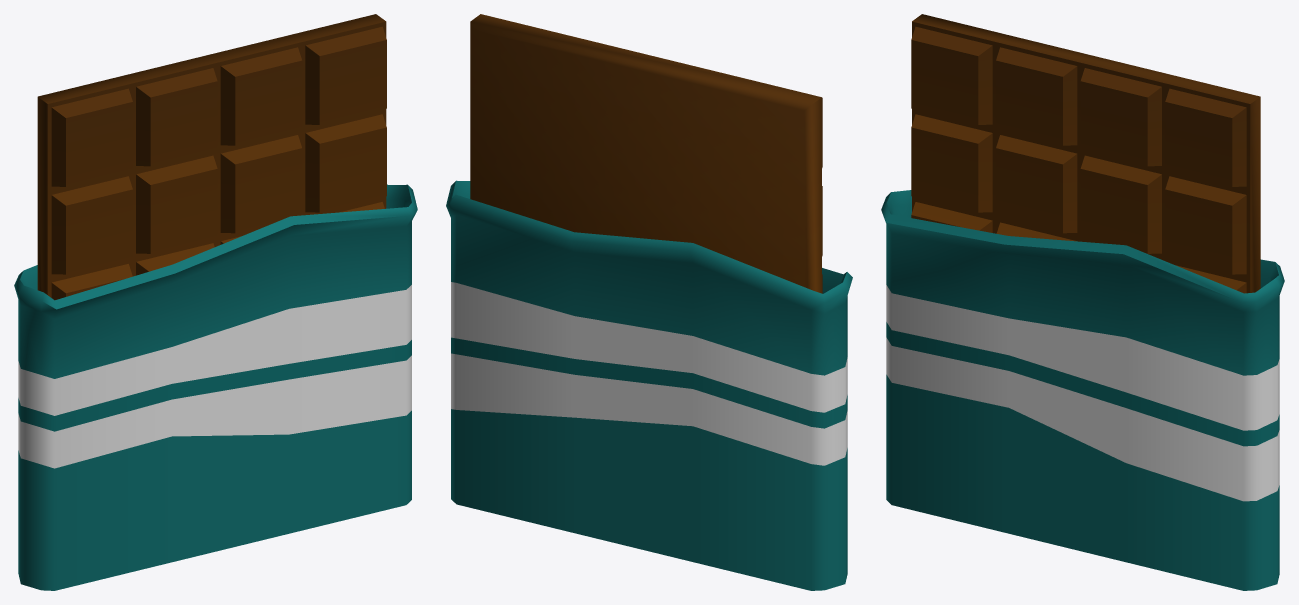
Rendered from Chocolate_3.fbx.
3 renders of one model, left to right at view 1: azimuth 30°, elevation 25°; view 2: azimuth 150°, elevation 25°; view 3: azimuth 330°, elevation 25°, orthographic.
Visible parts, largest first — view 1: Chocolate_3; view 2: Chocolate_3; view 3: Chocolate_3.
Boxes of the visible parts, box(x1,y1,x2,y2) form: Chocolate_3: box(14, 14, 417, 590); Chocolate_3: box(446, 14, 852, 590); Chocolate_3: box(881, 14, 1284, 590).
Size of the model in its own units: 0.1012 by 0.1167 by 0.0168.
1 material, 1 textured.
